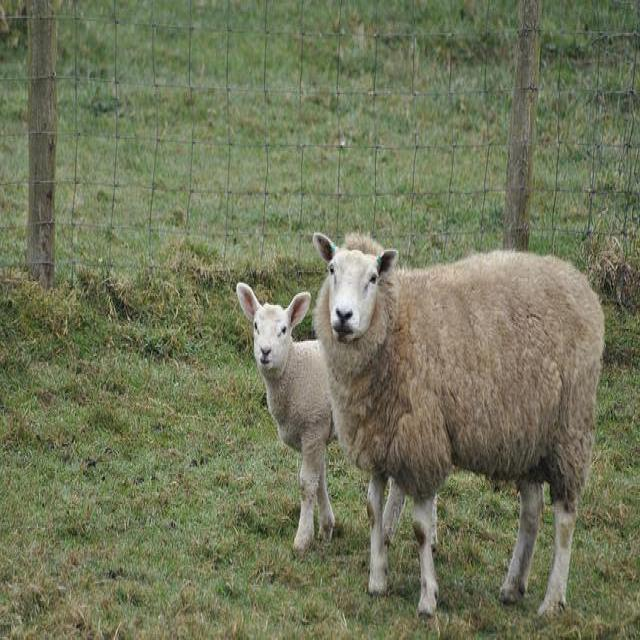Sheep: (307, 229, 612, 616), (235, 281, 339, 556)
